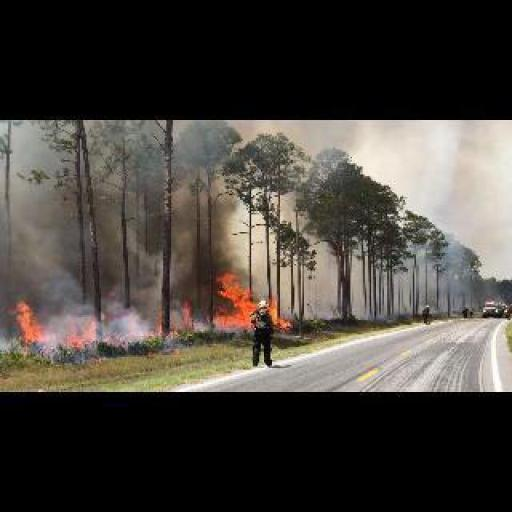smoke: (11, 290, 104, 354), (216, 194, 259, 282), (206, 272, 260, 328), (98, 286, 146, 334), (269, 298, 293, 326), (155, 306, 179, 334), (180, 298, 194, 323)
